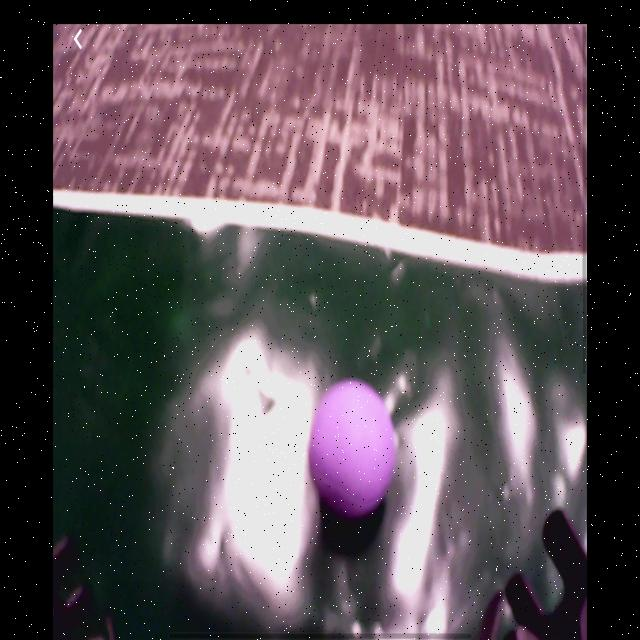ball: (309, 382, 398, 514)
